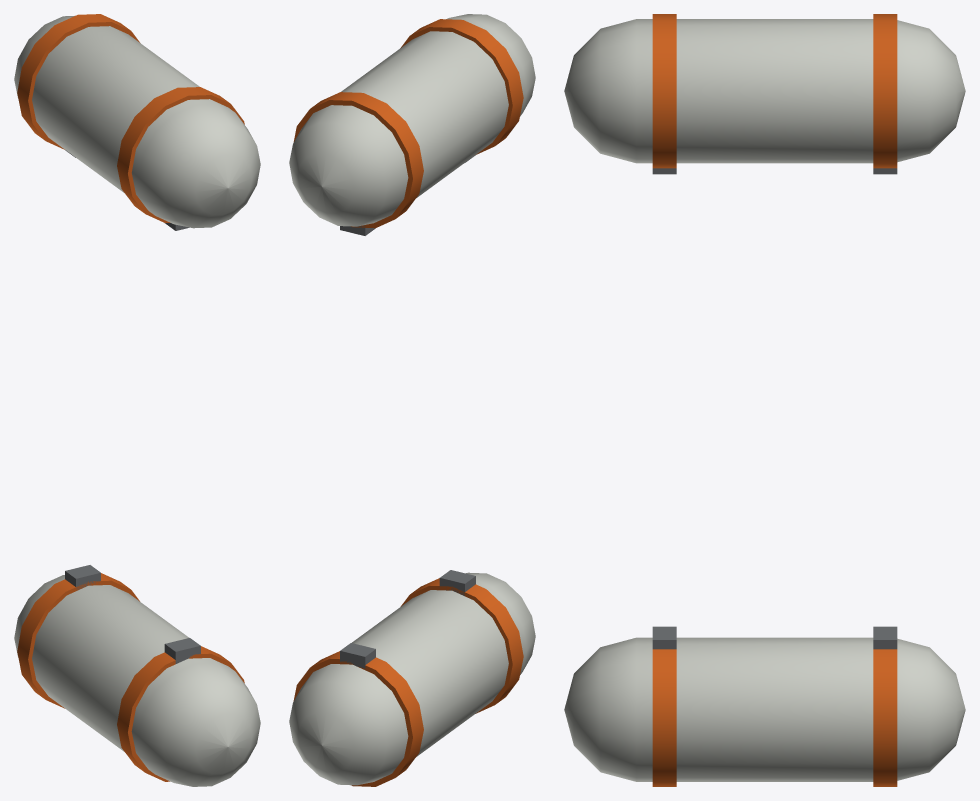
The picture shows the model from 3 angles, left to right: view 1: azimuth 30°, elevation 25°; view 2: azimuth 150°, elevation 25°; view 3: azimuth 270°, elevation 25°; orthographic projection. The views are drawn at different scales.
Parts seen in each view (by area): view 1: u65m_hx; view 2: u65m_hx; view 3: u65m_hx.
Part boxes in pixels (box(x1,y1,x2,y2)): u65m_hx: box(14, 14, 260, 786); u65m_hx: box(289, 14, 535, 786); u65m_hx: box(564, 14, 965, 786).
Size of the model in its own units: 0.77 by 4.17 by 2.
